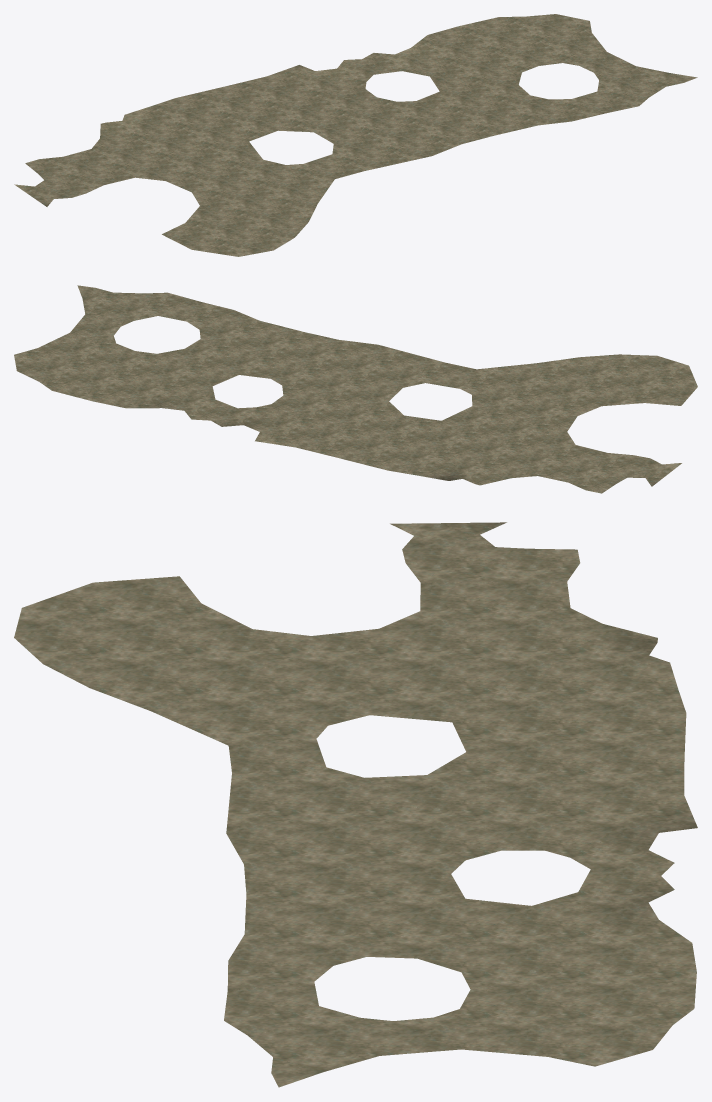
File: EKH_GROTTO_PS_GR_LINE02.fbx
The picture shows the model from 3 angles, top to bottom: view 1: azimuth 30°, elevation 25°; view 2: azimuth 150°, elevation 25°; view 3: azimuth 270°, elevation 25°; orthographic projection. The views are drawn at different scales.
Parts seen in each view (by area): view 1: EKH_GROTTO_PS_GR_LINE02; view 2: EKH_GROTTO_PS_GR_LINE02; view 3: EKH_GROTTO_PS_GR_LINE02.
Boxes of the visible parts, bbox=[...] form: EKH_GROTTO_PS_GR_LINE02: bbox=[14, 14, 697, 256]; EKH_GROTTO_PS_GR_LINE02: bbox=[14, 285, 697, 493]; EKH_GROTTO_PS_GR_LINE02: bbox=[14, 522, 697, 1087].
Bounding box in the file's own units: 278985 × 0.0392 × 142695.
Materials: 1 (1 with a texture image).
